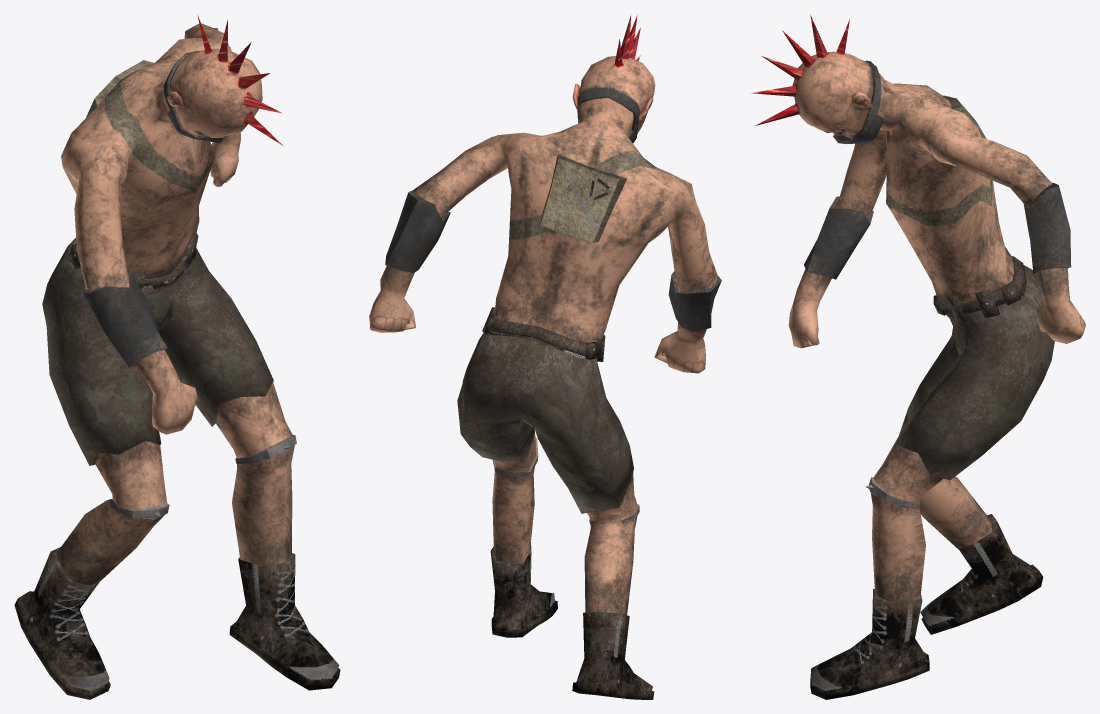
Rendered from Anim_cogerobjeto_npc2.0032.obj.
The picture shows the model from 3 angles, left to right: view 1: azimuth 30°, elevation 25°; view 2: azimuth 150°, elevation 25°; view 3: azimuth 270°, elevation 25°; orthographic projection. The views are drawn at different scales.
Visible parts, largest first — view 1: polySurface1; view 2: polySurface1; view 3: polySurface1.
Part boxes in pixels (x1,y1,x2,y2): polySurface1: (14,15,340,699); polySurface1: (369,14,721,699); polySurface1: (751,14,1085,699).
Bounding box in the file's own units: 3.59 × 8.92 × 4.2.
Materials: 2 (2 with a texture image).
